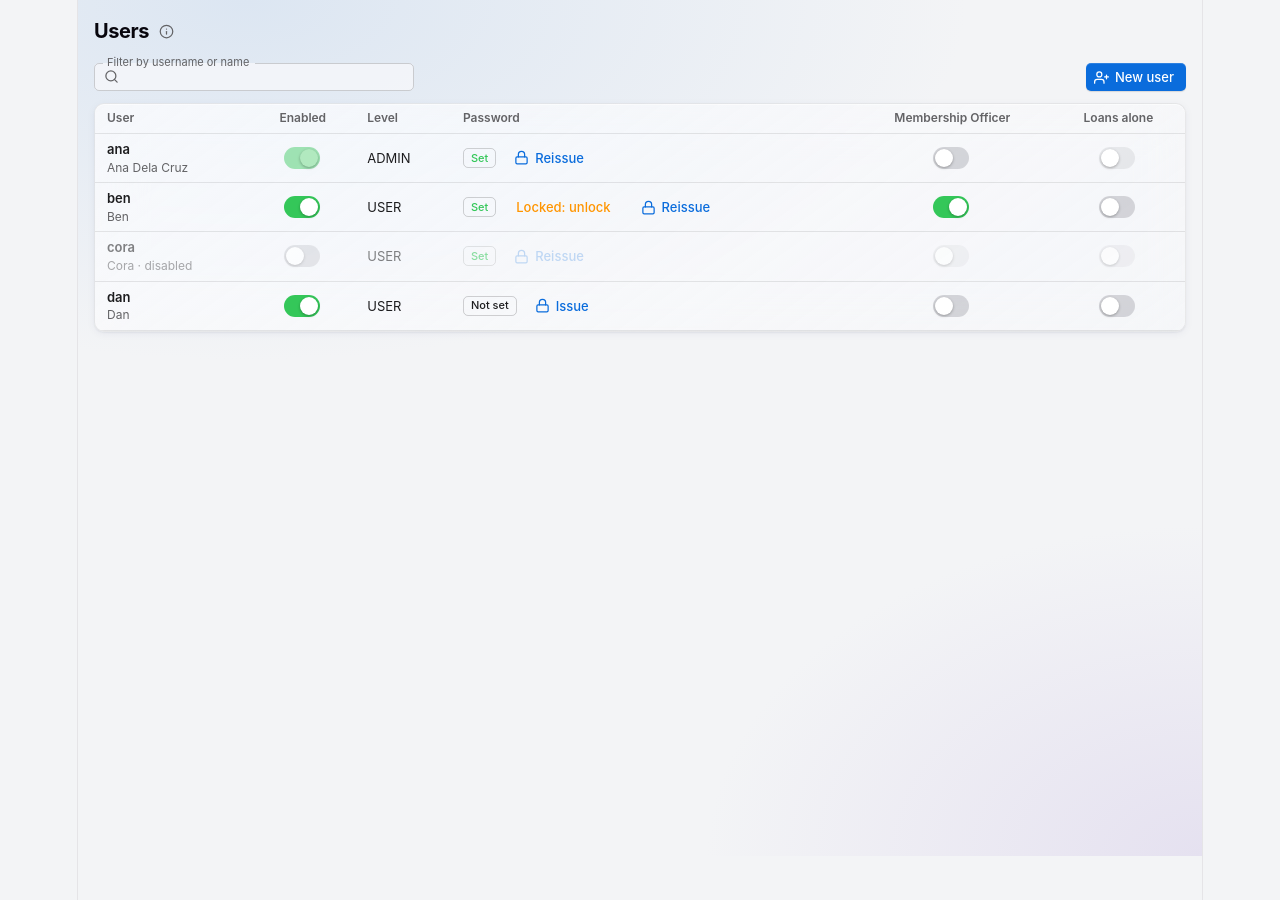
Scenario: Users › shows the reason when the server refuses
The image size is (1280, 900).
Expected: the text "Ana Dela Cruz" is shown, x1=107 y1=160 x2=188 y2=175
Click the switch named "cora is enabled" at (295, 256), box x1=286 y1=247 x2=304 y2=265
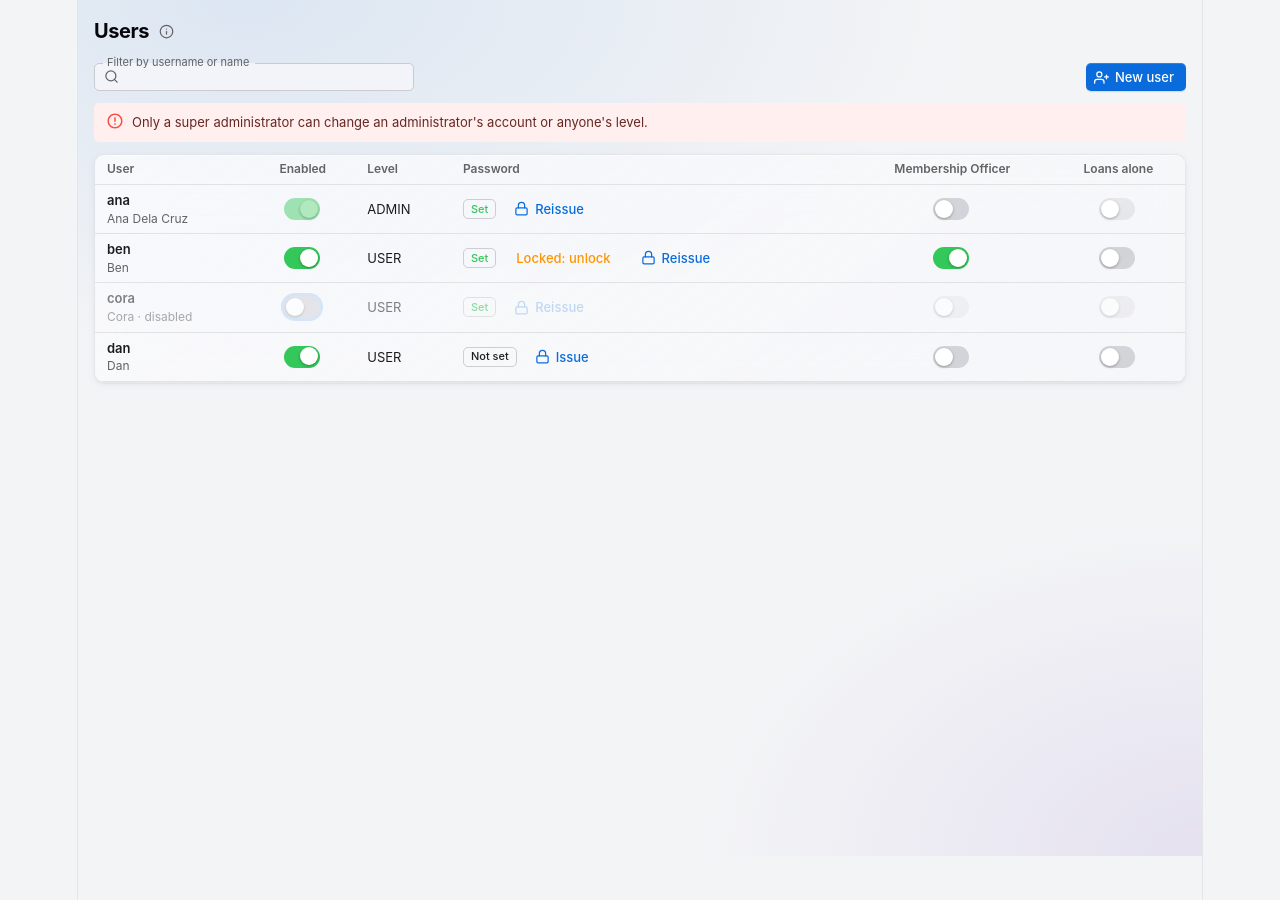
Now the text "Only a super administrator can change" is shown, box x1=132 y1=114 x2=648 y2=130
